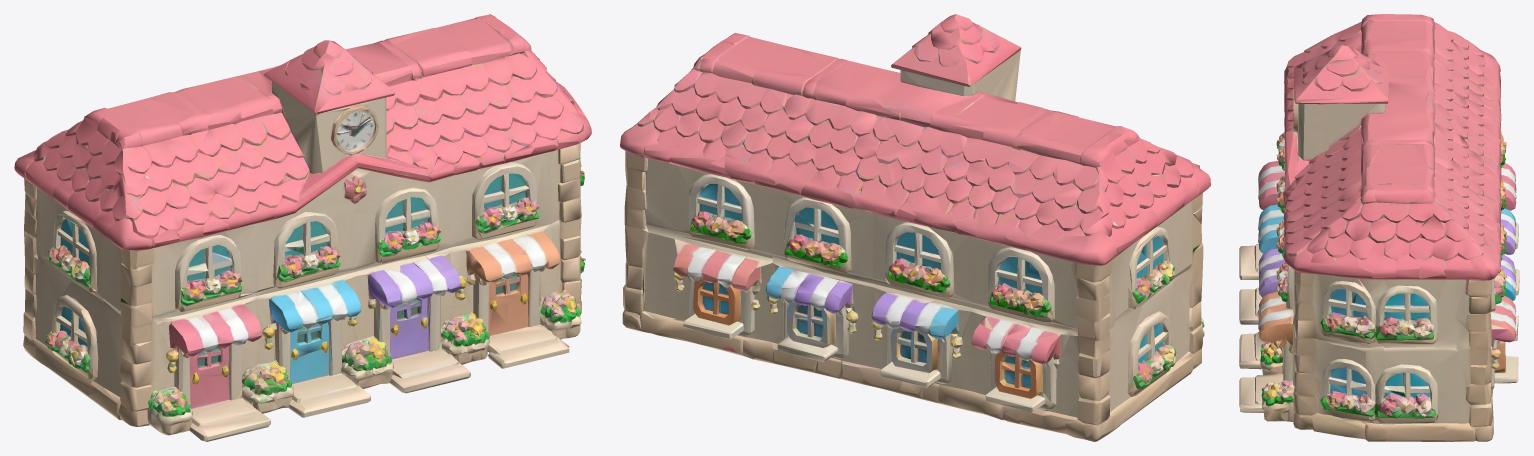
The model's file is hq_school.glb.
3 views of the same model, side by side, from view 1: azimuth 30°, elevation 25°; view 2: azimuth 150°, elevation 25°; view 3: azimuth 270°, elevation 25° (orthographic). The views are drawn at different scales.
Bounding box in the file's own units: 1.9 × 1.14 × 1.01.
Materials: 1 (1 with a texture image).
